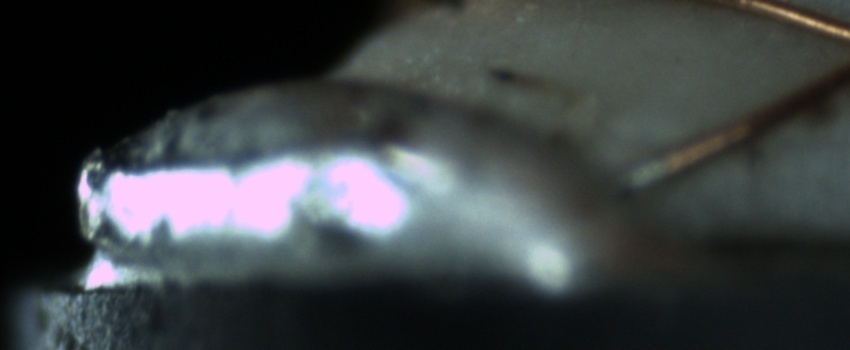TS: (611, 148, 667, 206)
